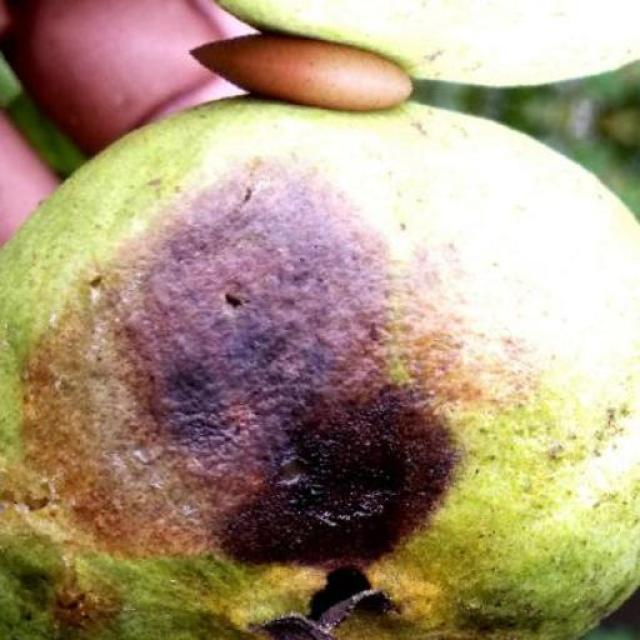Styler_Root: (0, 98, 640, 640)
